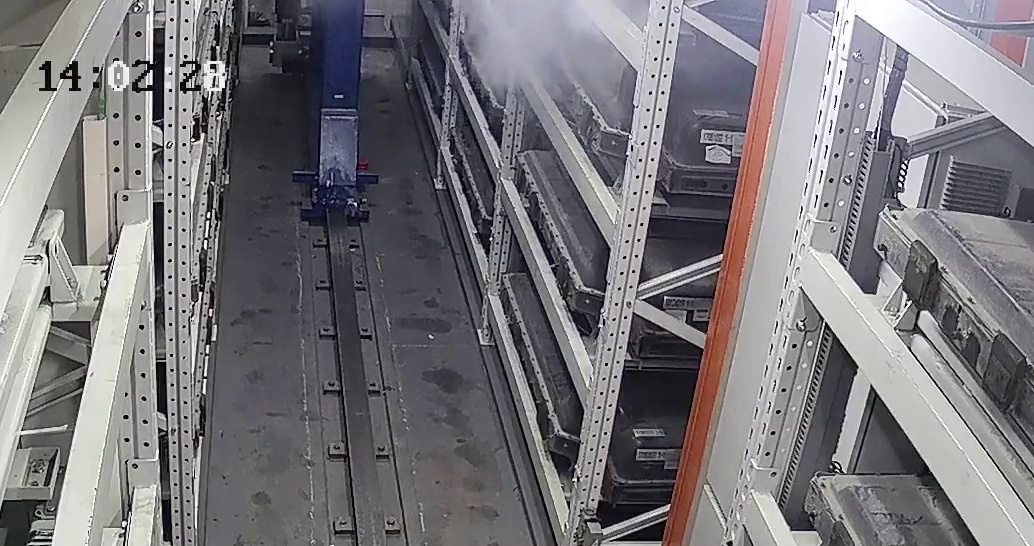smoke: (464, 2, 633, 93)
